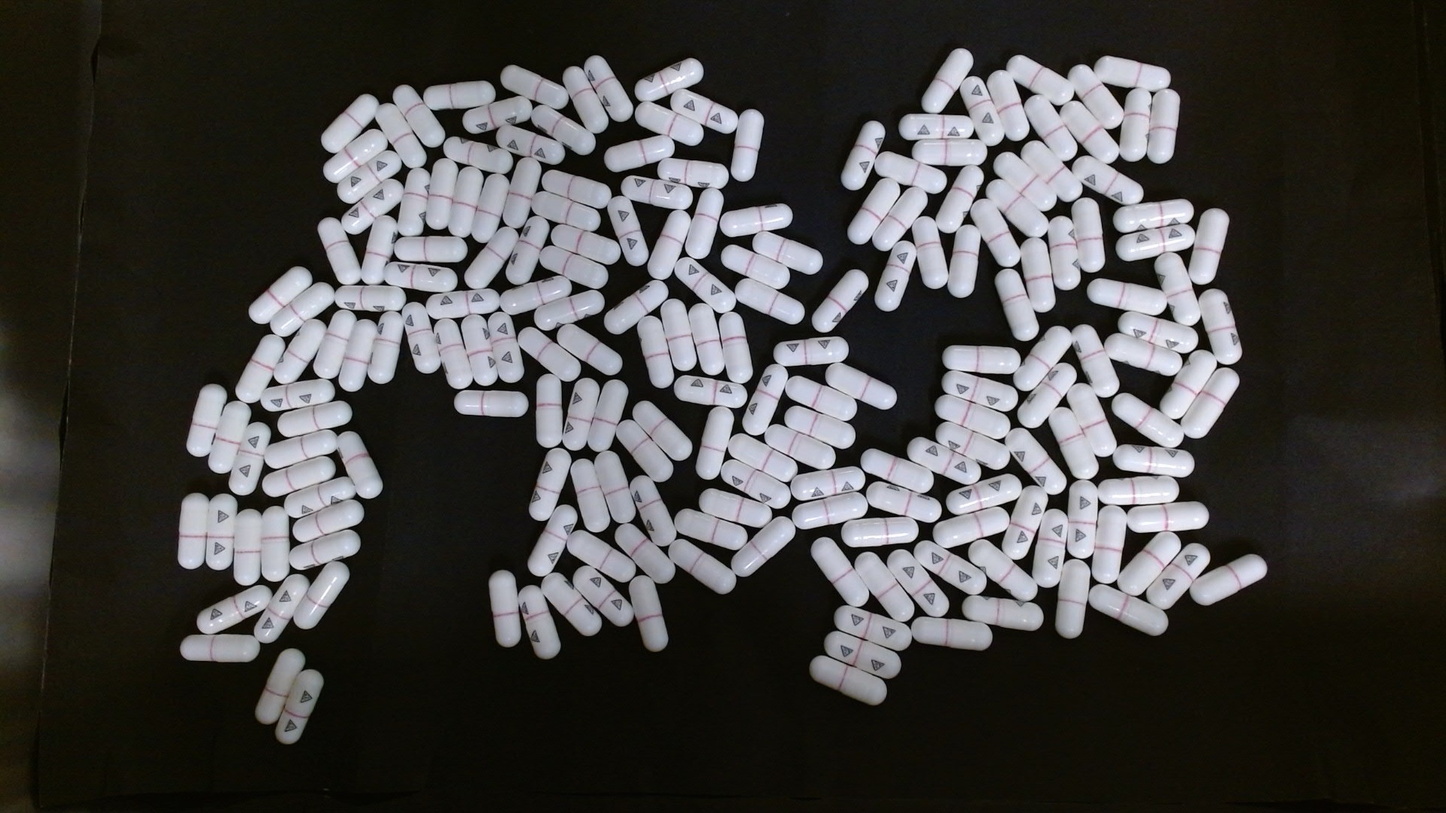Capsule: (1180, 364, 1243, 441), (1142, 542, 1213, 610), (1003, 426, 1068, 498), (911, 539, 989, 599), (884, 547, 951, 616), (612, 518, 677, 589), (966, 536, 1037, 601), (729, 513, 798, 579), (853, 550, 916, 622), (566, 528, 638, 590), (1085, 277, 1176, 326), (1011, 323, 1074, 393), (289, 562, 349, 634), (1045, 405, 1101, 482), (933, 420, 1014, 473), (1119, 531, 1182, 599), (1066, 64, 1125, 136), (822, 630, 903, 682), (864, 183, 924, 253), (615, 416, 679, 481), (991, 150, 1058, 212), (1074, 152, 1144, 211), (255, 571, 312, 643), (631, 399, 694, 464), (1058, 99, 1120, 165), (810, 536, 866, 609), (1017, 361, 1078, 428), (1187, 554, 1264, 607), (1111, 392, 1185, 447), (1161, 349, 1219, 419), (667, 537, 737, 595), (1088, 584, 1166, 636), (904, 436, 982, 488), (810, 655, 891, 705), (257, 648, 307, 729), (846, 174, 902, 246), (322, 126, 390, 185), (1115, 309, 1200, 356), (248, 264, 313, 325), (462, 226, 520, 294), (391, 83, 448, 152), (970, 199, 1021, 276), (990, 175, 1050, 240), (956, 73, 1008, 148), (741, 364, 789, 445), (554, 322, 622, 379), (271, 317, 326, 387), (825, 360, 899, 412), (724, 243, 804, 291), (573, 565, 633, 629), (270, 280, 336, 338), (933, 392, 1011, 441), (1023, 94, 1078, 163), (1065, 381, 1116, 455), (276, 669, 325, 746), (786, 375, 866, 422), (198, 583, 270, 635), (1069, 324, 1120, 397), (340, 175, 402, 235), (726, 432, 797, 484), (1104, 331, 1186, 376), (336, 149, 403, 204), (584, 53, 635, 125), (719, 459, 791, 510), (1020, 139, 1078, 202), (540, 572, 595, 638), (837, 604, 911, 653), (502, 273, 584, 317), (319, 94, 379, 154), (985, 69, 1033, 144), (1153, 252, 1201, 327), (605, 277, 667, 335), (676, 259, 740, 315), (629, 471, 678, 544), (812, 269, 867, 334), (1115, 221, 1200, 263), (502, 215, 550, 289), (593, 451, 639, 528), (207, 398, 253, 475), (339, 315, 385, 392), (519, 325, 580, 383), (865, 480, 945, 524), (236, 333, 286, 403), (921, 47, 974, 113), (374, 102, 426, 169), (938, 371, 1019, 414), (265, 452, 342, 497), (873, 149, 948, 195), (1007, 53, 1072, 106), (1187, 207, 1230, 287), (263, 426, 341, 470), (858, 447, 934, 492), (529, 501, 579, 569), (785, 403, 857, 450), (561, 64, 610, 133), (935, 504, 1010, 549), (935, 164, 983, 234), (733, 277, 803, 325), (1198, 288, 1242, 364), (676, 507, 750, 552), (548, 222, 621, 267), (532, 190, 608, 233), (539, 244, 610, 290), (313, 308, 357, 382), (291, 498, 360, 545), (336, 429, 383, 498), (315, 216, 360, 288), (752, 231, 824, 276), (185, 382, 227, 459), (500, 63, 567, 111), (839, 119, 884, 190), (605, 195, 648, 269), (532, 287, 606, 330), (634, 56, 703, 102), (768, 424, 837, 470), (289, 526, 358, 572), (688, 302, 729, 379), (994, 267, 1036, 342), (400, 300, 442, 375), (697, 487, 770, 530), (529, 446, 572, 519), (587, 379, 628, 455), (1062, 479, 1100, 561), (570, 457, 612, 531), (227, 422, 270, 494), (648, 209, 691, 281), (1115, 500, 1206, 534), (633, 100, 700, 146), (628, 574, 667, 653), (1091, 54, 1172, 92), (518, 586, 561, 657), (787, 467, 865, 506), (1089, 503, 1127, 583), (532, 106, 594, 155), (501, 157, 543, 229), (875, 239, 917, 311), (793, 490, 870, 529), (1019, 236, 1058, 313), (1097, 476, 1188, 509), (1033, 503, 1070, 584), (470, 172, 511, 245), (1008, 485, 1054, 550), (695, 405, 734, 481), (686, 187, 725, 263), (962, 595, 1042, 632), (660, 298, 698, 375), (284, 476, 352, 519), (276, 398, 349, 438), (364, 311, 404, 384), (447, 163, 485, 239), (911, 213, 949, 289), (1055, 559, 1091, 639), (496, 122, 562, 165), (718, 309, 755, 385), (459, 95, 533, 133), (606, 133, 678, 172), (541, 169, 611, 209), (840, 515, 919, 550), (912, 617, 993, 651), (1112, 199, 1193, 233), (772, 334, 850, 369), (1112, 445, 1194, 478), (563, 377, 600, 450), (672, 375, 749, 410), (1047, 215, 1082, 292), (459, 313, 496, 385), (262, 376, 334, 413), (944, 477, 1012, 516), (487, 570, 521, 648), (445, 137, 514, 175), (362, 215, 398, 287), (1071, 199, 1106, 273), (1146, 87, 1180, 163), (397, 164, 431, 240), (638, 315, 673, 388), (435, 318, 472, 387), (425, 158, 459, 233), (941, 344, 1023, 375), (731, 108, 764, 185), (721, 203, 795, 237), (426, 287, 502, 320), (177, 492, 209, 570), (1118, 91, 1152, 163), (947, 224, 980, 298), (232, 507, 264, 583), (259, 507, 291, 582), (622, 175, 692, 209), (426, 78, 497, 111), (385, 260, 458, 292), (180, 633, 260, 662), (685, 92, 737, 136), (488, 319, 524, 382), (395, 235, 468, 266), (205, 496, 236, 569), (533, 372, 563, 447), (659, 157, 727, 190), (453, 389, 527, 419), (334, 284, 405, 315), (898, 112, 974, 140), (911, 139, 987, 166)
